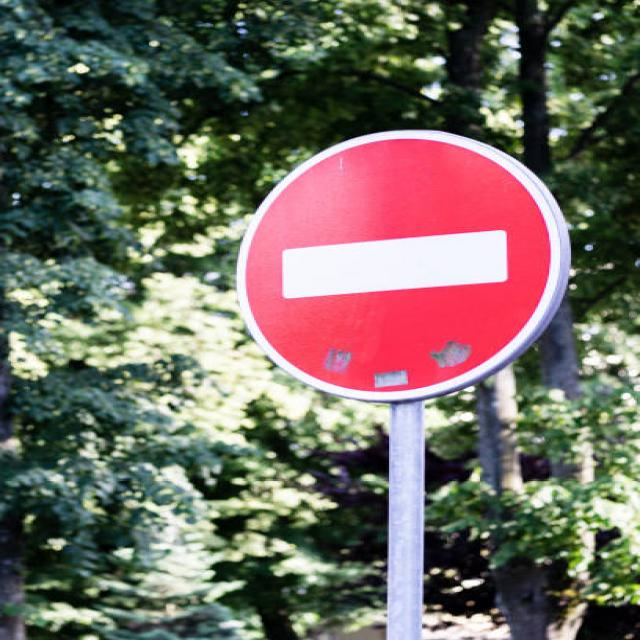do_not_enter: (229, 121, 573, 408)
